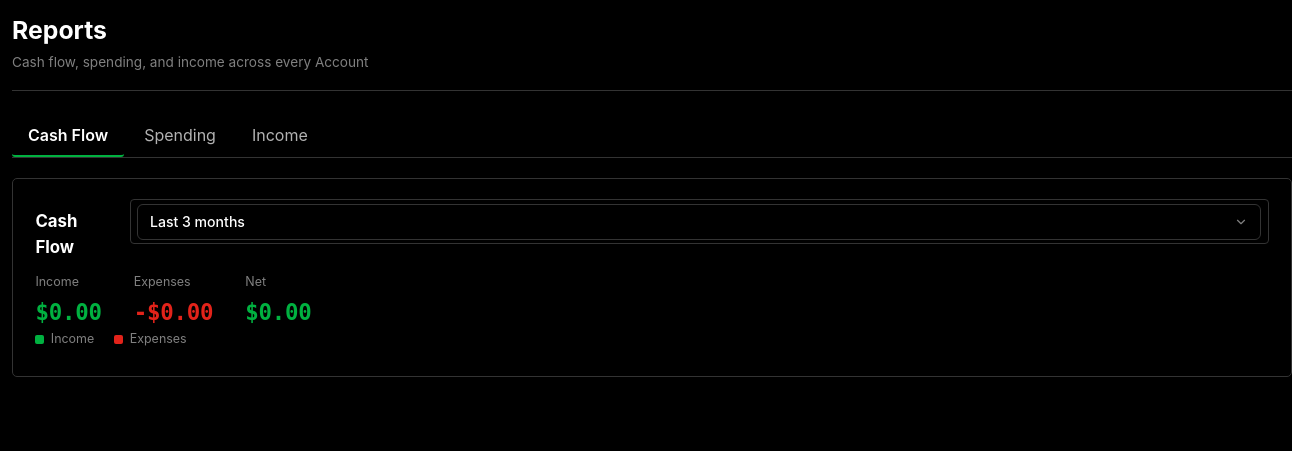
it: ReportsScreen Income tab › renders a Category-less Transaction's total under the Uncategorized bucket
This screenshot has width=1292, height=451.
Step 1. Click the tab "Income" → {"x": 280, "y": 136}, box [236,115,324,157]
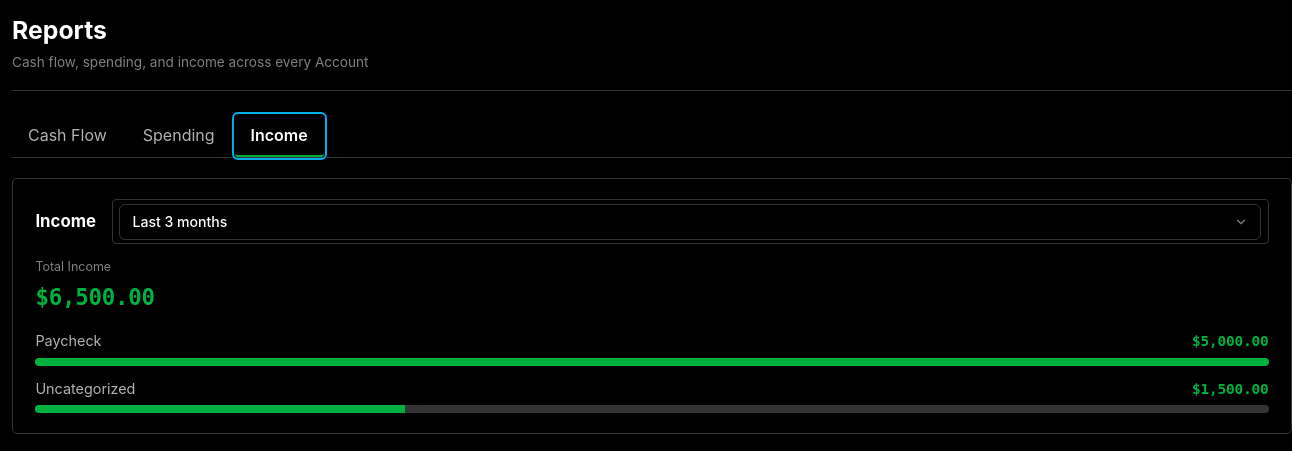
Check: the text "Paycheck" is shown, box [35,330,102,352]
Check: the text "Uncategorized" is shown, box [35,378,135,399]
Check: the text "$1,500.00" is shown, box [1192,379,1269,400]
